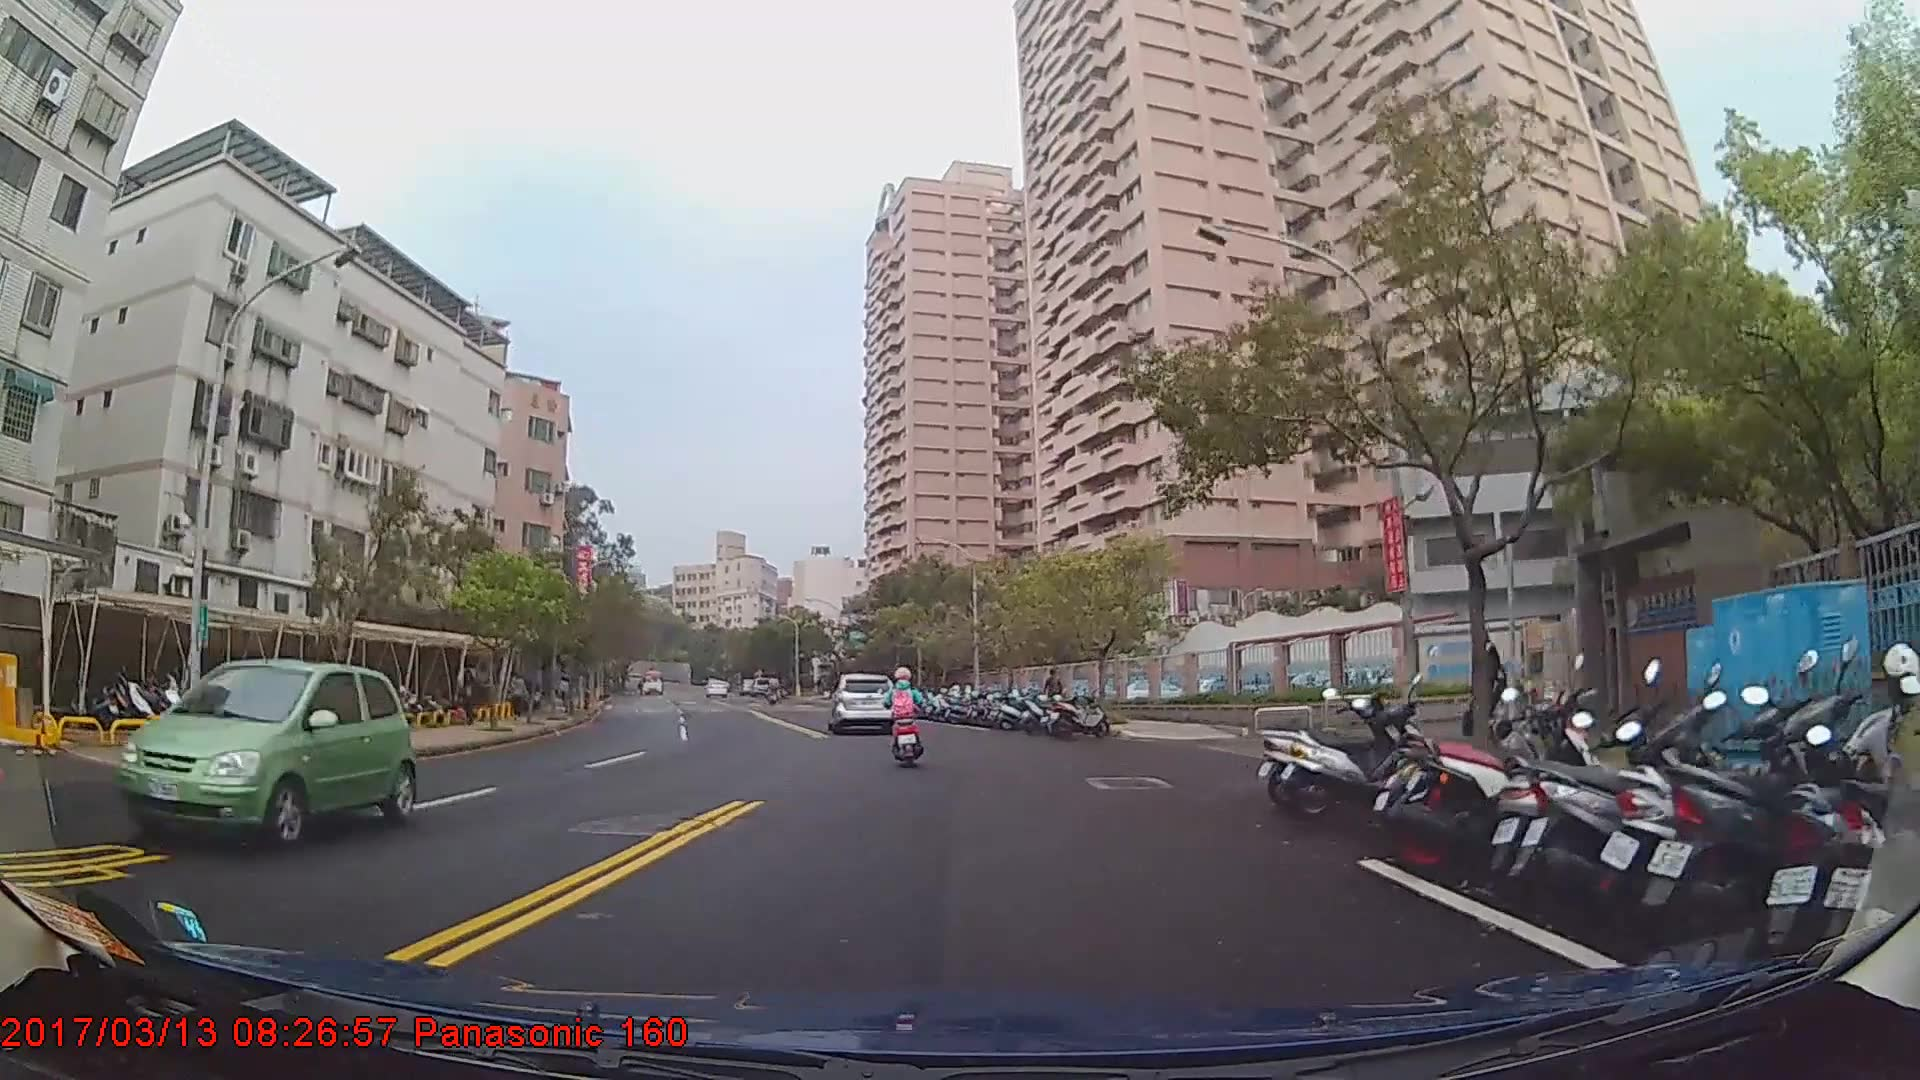pedestrian: (1466, 625, 1504, 768), (1045, 670, 1065, 726)
rider: (882, 669, 925, 766)
vehicle: (118, 658, 415, 854), (827, 673, 897, 738), (639, 667, 664, 695)
